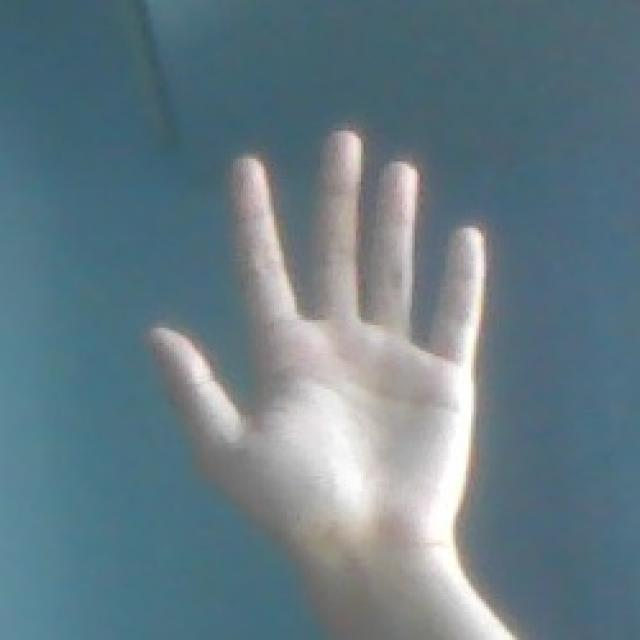Numeric-5: (144, 115, 492, 578)
